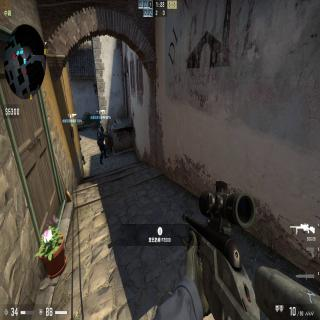CT-Body: (96, 124, 108, 166)
CT-Head: (98, 125, 104, 131)
